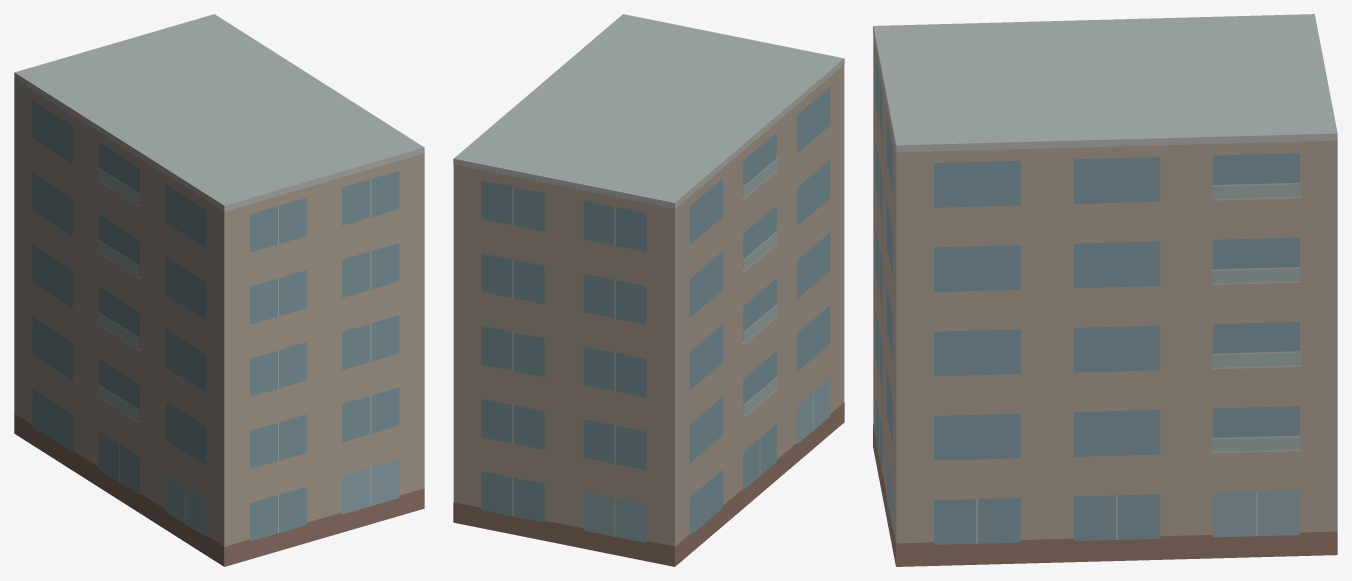
The model's file is survey-upis-33030402.glb.
3 renders of one model, left to right at view 1: azimuth 30°, elevation 25°; view 2: azimuth 150°, elevation 25°; view 3: azimuth 270°, elevation 25°, orthographic. The views are drawn at different scales.
Visible parts, largest first — view 1: survey-upis-33030402.tmp; view 2: survey-upis-33030402.tmp; view 3: survey-upis-33030402.tmp.
Part boxes in pixels (x1,y1,x2,y2): survey-upis-33030402.tmp: (14, 14, 424, 566); survey-upis-33030402.tmp: (453, 14, 844, 566); survey-upis-33030402.tmp: (873, 14, 1337, 566).
Bounding box in the file's own units: 9.77 × 14.6 × 14.59.
